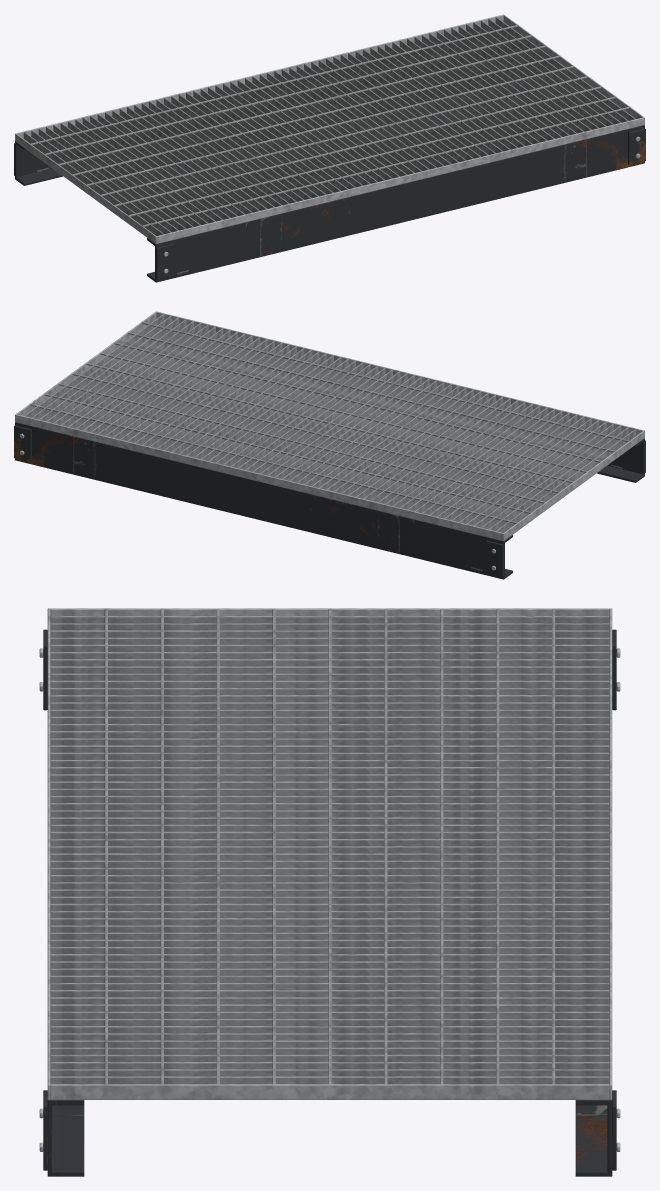
Rendered from SM_IK_Catwalk_200_Rusty.fbx.
3 renders of one model, top to bottom at view 1: azimuth 30°, elevation 25°; view 2: azimuth 150°, elevation 25°; view 3: azimuth 270°, elevation 25°, orthographic. The views are drawn at different scales.
Parts seen in each view (by area): view 1: SM_IK_Catwalk_200_Rusty; view 2: SM_IK_Catwalk_200_Rusty; view 3: SM_IK_Catwalk_200_Rusty.
Part boxes in pixels (x1=…): SM_IK_Catwalk_200_Rusty: x1=14, y1=14, x2=645, y2=282; SM_IK_Catwalk_200_Rusty: x1=14, y1=311, x2=645, y2=579; SM_IK_Catwalk_200_Rusty: x1=39, y1=608, x2=620, y2=1176.
Size of what is drawn, in the model's own units: 200 by 103 by 18.05.
